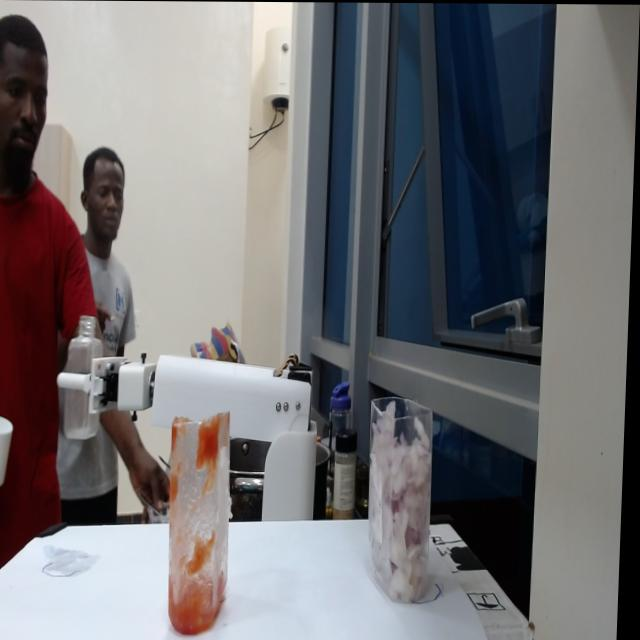blended_tomatoes_pepper: (171, 530, 232, 632)
sliced_onions: (373, 400, 436, 601)
